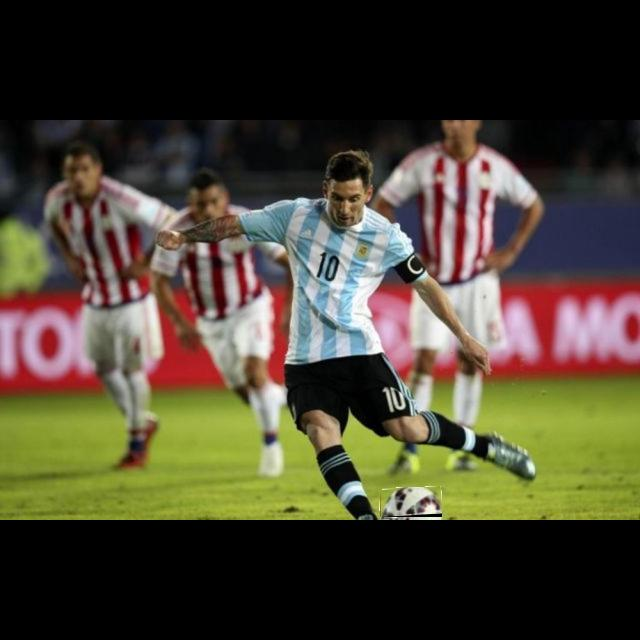Football: (380, 487, 442, 517)
